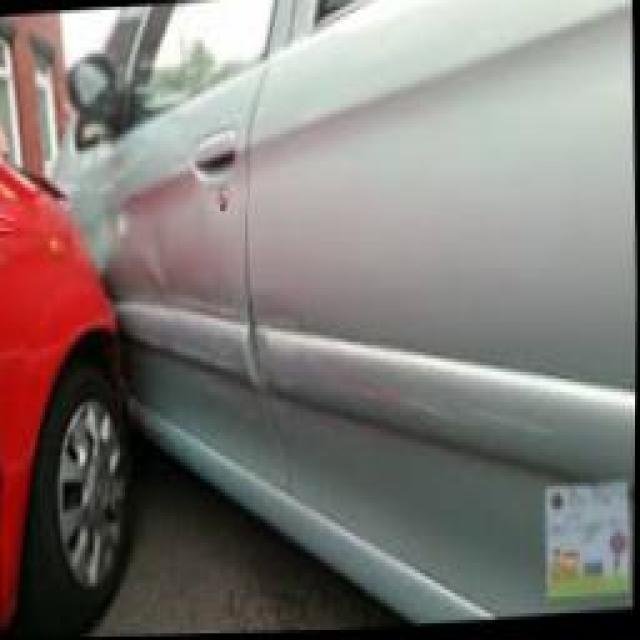Door: (70, 151, 284, 491)
